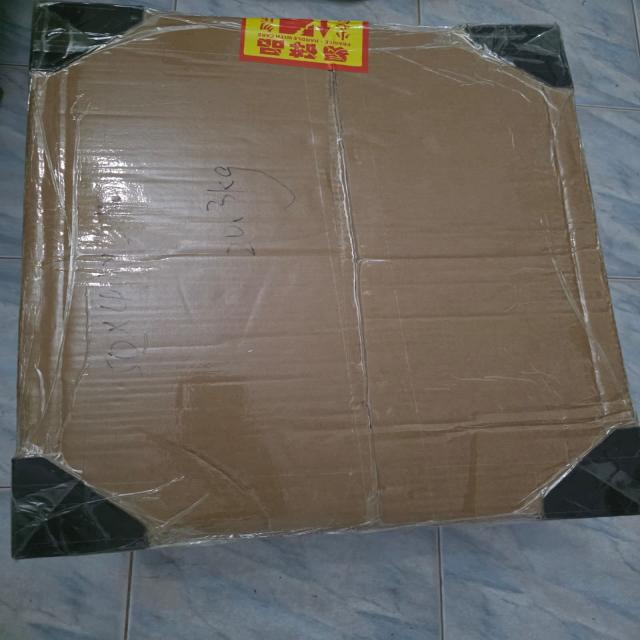carton_box: (0, 0, 640, 552)
fragile_label: (262, 13, 322, 43)
package_damage: (318, 50, 360, 174)
this_side_up_label: (313, 13, 340, 44)
